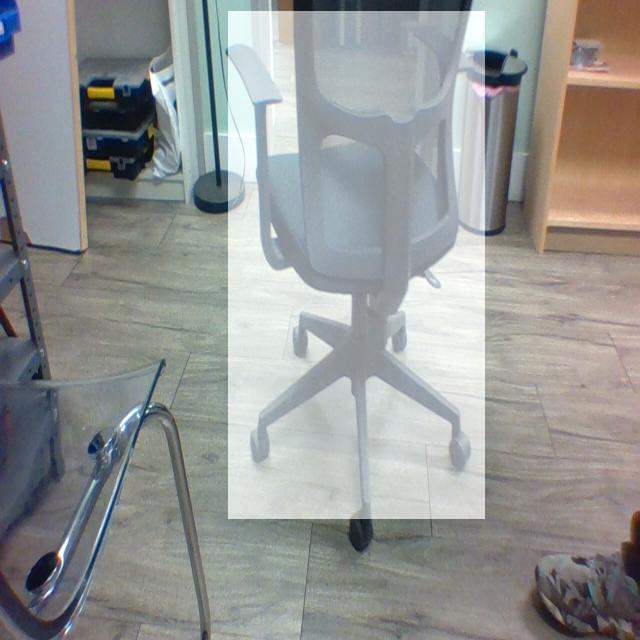chair: (229, 12, 487, 520)
